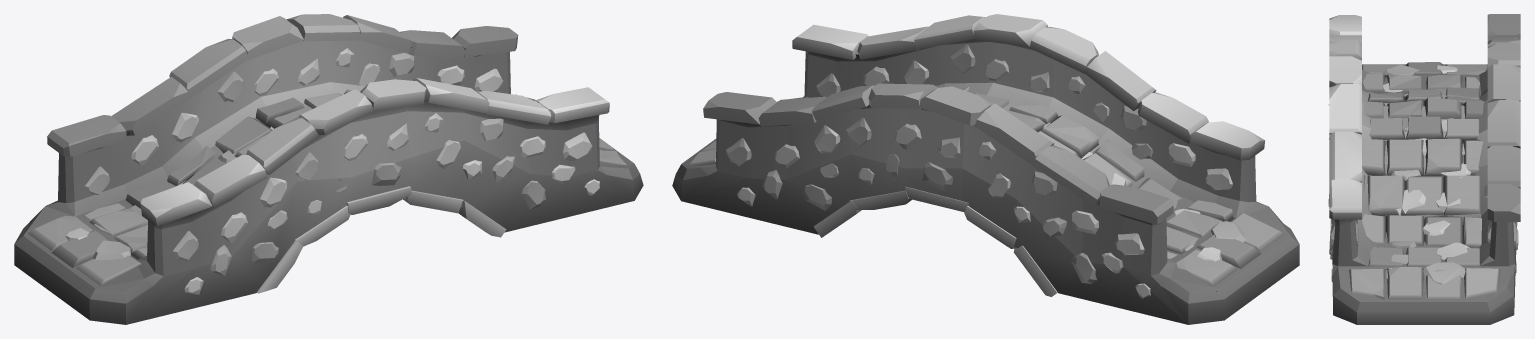
Rendered from BridgeStone.fbx.
The picture shows the model from 3 angles, left to right: view 1: azimuth 30°, elevation 25°; view 2: azimuth 150°, elevation 25°; view 3: azimuth 270°, elevation 25°; orthographic projection. The views are drawn at different scales.
Visible parts, largest first — view 1: Bridge, StonePlates, Stones, Cobbled; view 2: Bridge, StonePlates, Stones, Cobbled; view 3: Cobbled, StonePlates, Bridge, Stones.
Boxes of the visible parts, <box> form: Bridge: <box>14,40,643,324</box>; StonePlates: <box>47,14,609,293</box>; Stones: <box>65,48,599,294</box>; Cobbled: <box>21,89,626,285</box>; Bridge: <box>672,39,1299,324</box>; StonePlates: <box>703,14,1265,296</box>; Stones: <box>726,44,1246,298</box>; Cobbled: <box>688,86,1284,291</box>; Cobbled: <box>1329,62,1500,299</box>; StonePlates: <box>1329,14,1520,259</box>; Bridge: <box>1331,64,1516,324</box>; Stones: <box>1328,64,1518,284</box>.
Bounding box in the file's own units: 12.1 × 3.62 × 4.12.
Materials: 1 (1 with a texture image).
